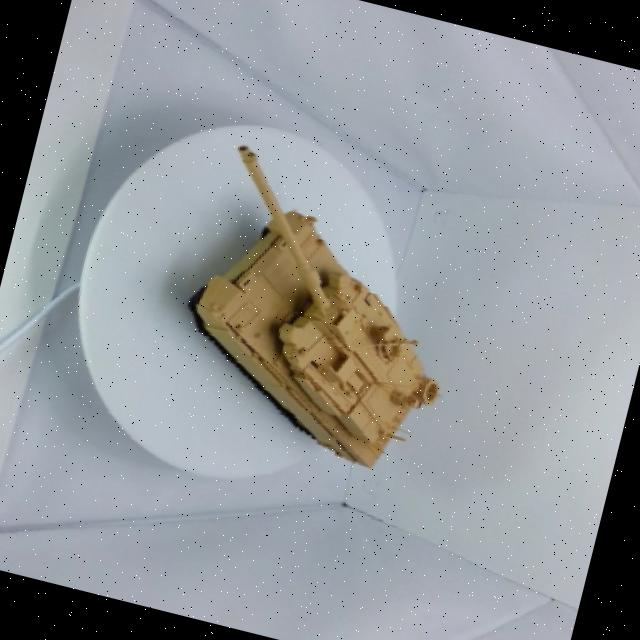korea tank: (120, 124, 516, 506)
